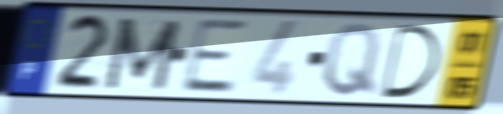2: (53, 11, 114, 94)
4: (248, 17, 299, 100)
D: (379, 21, 443, 101)
E: (177, 16, 250, 96)
M: (100, 15, 184, 93)
Q: (320, 21, 383, 100)
